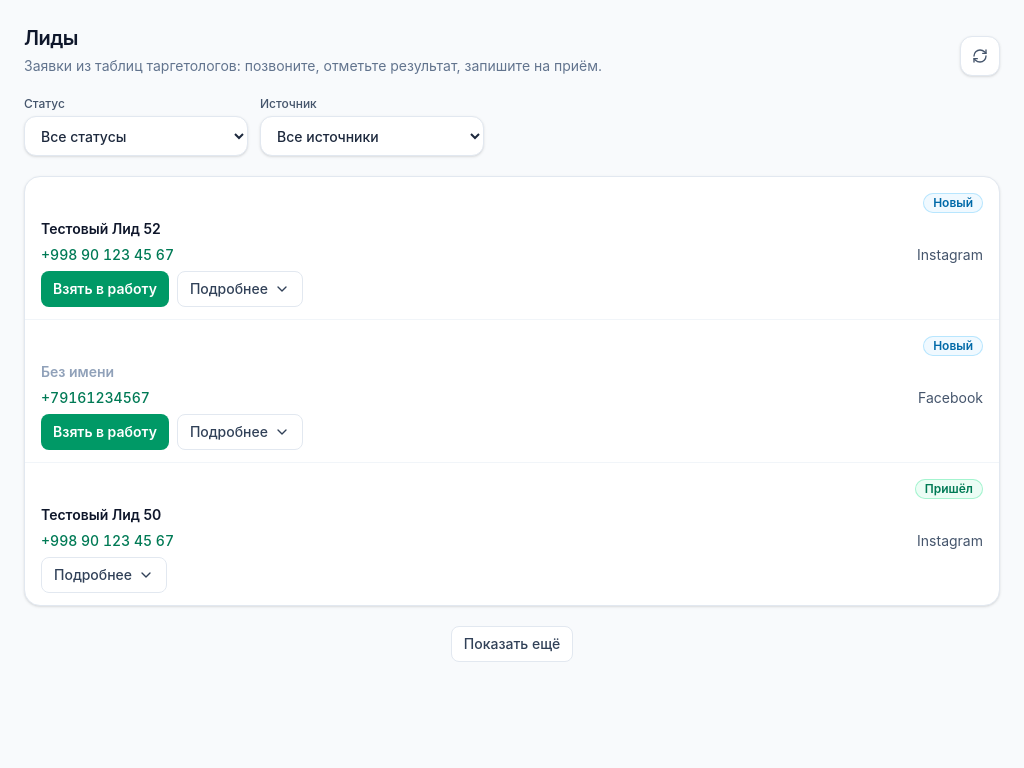
Scenario: staff leads page › keeps the filters in the «Показать ещё» request
Select "Новый" in the dropdown labelled "Статус": (136, 136) [24,116,248,156]
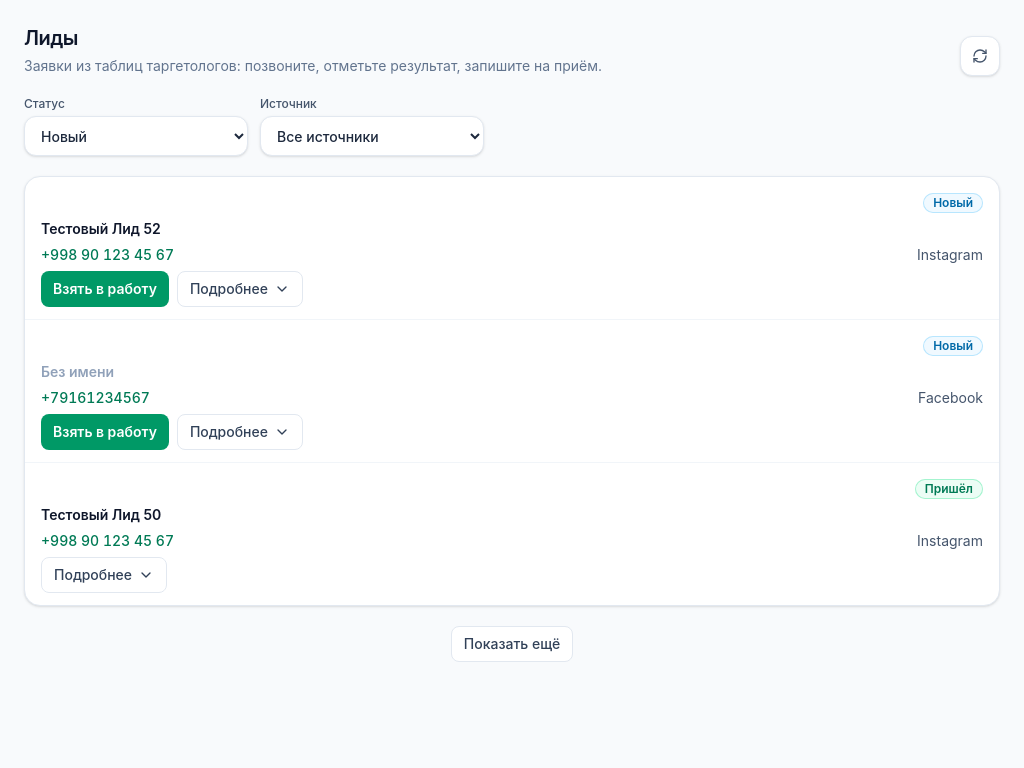
Click the button "Показать ещё": (512, 644) [451,626,573,662]
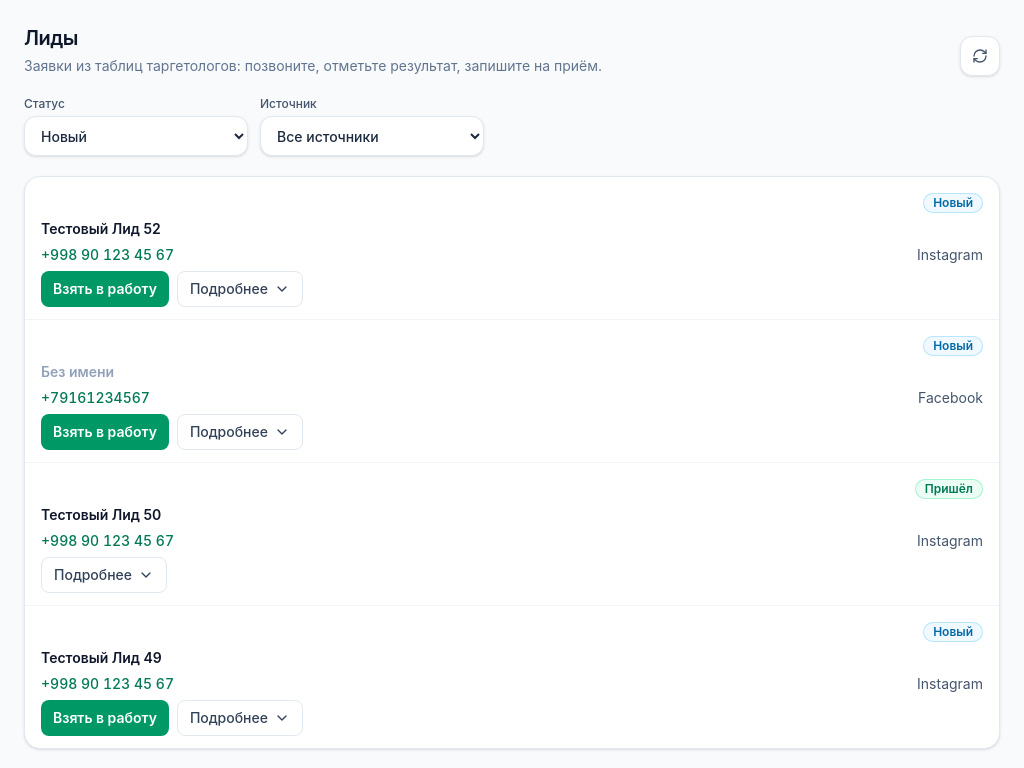
Expected: the number of list items is 4, [25,177,999,320]; [25,320,999,463]; [25,463,999,606]; [25,606,999,748]
